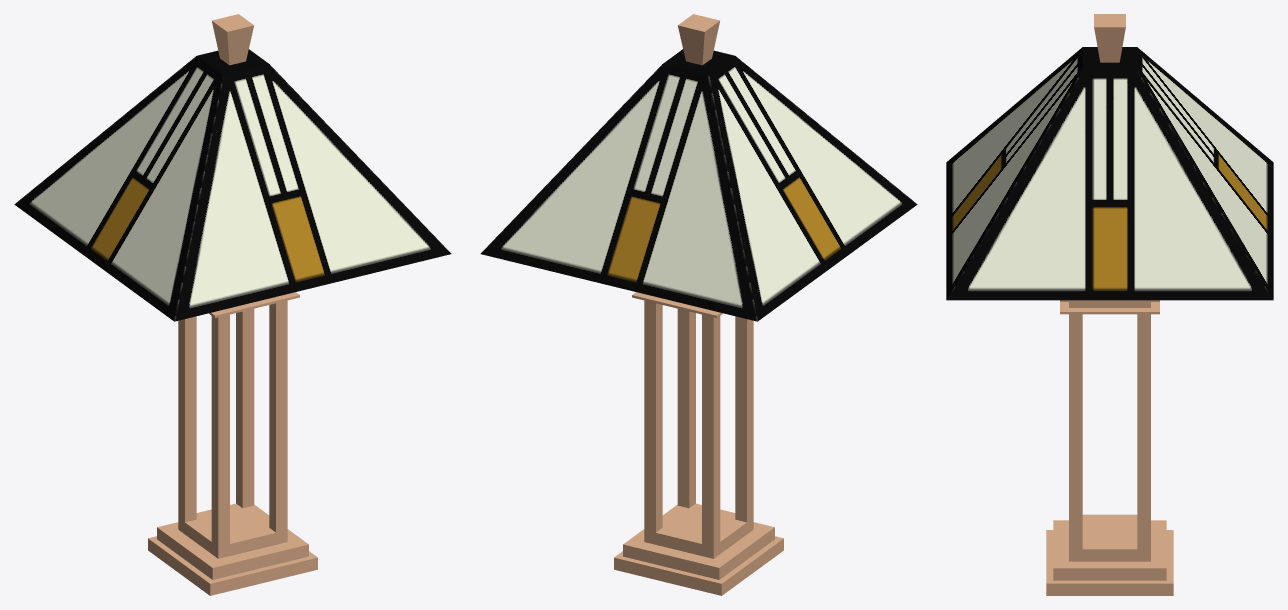
Rendered from lamppt2.fbx.
The picture shows the model from 3 angles, left to right: view 1: azimuth 30°, elevation 25°; view 2: azimuth 150°, elevation 25°; view 3: azimuth 270°, elevation 25°; orthographic projection. The views are drawn at different scales.
Visible parts, largest first — view 1: Harp; view 2: Harp; view 3: Harp.
Part boxes in pixels (box(x1,y1,x2,y2)): Harp: box(14, 14, 451, 595); Harp: box(480, 14, 917, 595); Harp: box(946, 14, 1273, 595).
Size of the model in its own units: 360 by 666 by 360.
Materials: 1 (1 with a texture image).
